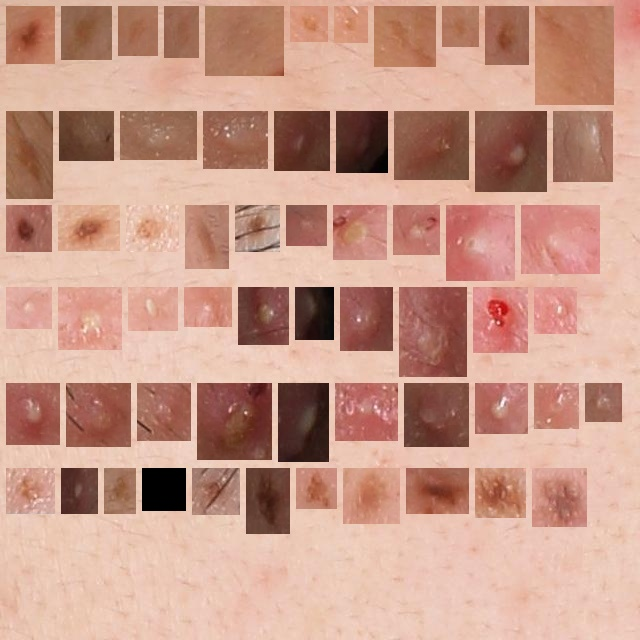hypertrophic_scar: (561, 119, 605, 174), (211, 119, 260, 161), (128, 119, 189, 152), (67, 119, 106, 153)
melasma: (543, 14, 606, 97), (213, 14, 276, 68), (14, 119, 45, 191), (382, 14, 428, 59), (540, 476, 579, 519), (414, 476, 461, 506), (193, 213, 221, 261), (69, 14, 104, 52), (493, 14, 521, 57), (483, 476, 518, 510), (134, 213, 171, 244), (126, 14, 150, 48), (172, 14, 191, 50), (450, 14, 471, 39), (298, 14, 320, 34), (342, 14, 360, 35)
nevus: (351, 476, 392, 516), (254, 476, 282, 526), (14, 14, 47, 56), (66, 213, 112, 243), (200, 476, 232, 507), (14, 476, 47, 506), (14, 213, 44, 244), (243, 213, 272, 244), (150, 476, 178, 503), (304, 476, 329, 501), (112, 476, 128, 506)
pustule: (407, 295, 459, 369), (483, 119, 539, 184), (205, 391, 264, 452), (529, 213, 592, 266), (454, 213, 507, 273), (402, 119, 461, 172), (74, 391, 123, 439), (412, 391, 461, 439), (66, 295, 114, 342), (286, 391, 321, 454), (343, 391, 390, 433), (481, 295, 520, 345), (348, 295, 385, 343), (282, 119, 322, 163), (14, 391, 52, 437), (344, 119, 380, 165), (145, 391, 183, 433), (341, 213, 379, 252), (246, 295, 281, 337), (483, 391, 520, 426), (401, 213, 432, 247), (136, 295, 170, 323), (542, 391, 571, 421), (303, 295, 326, 332), (542, 295, 569, 326), (14, 295, 44, 321), (192, 295, 224, 319), (69, 476, 90, 506), (294, 213, 319, 238), (593, 391, 614, 414)
